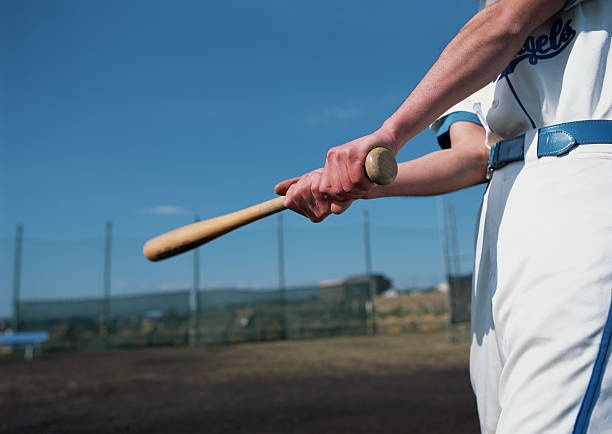bita: (140, 149, 401, 259)
